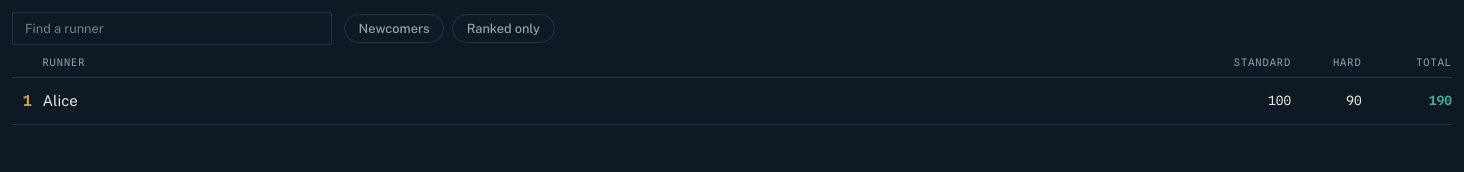
Test: EventLadder filters › shows the no-match message when filters exclude every entry
Type "nobody-matches" into the search field with placeholder "Find a runner".
click(172, 28); type("nobody-matches")  # box [12, 12, 332, 45]
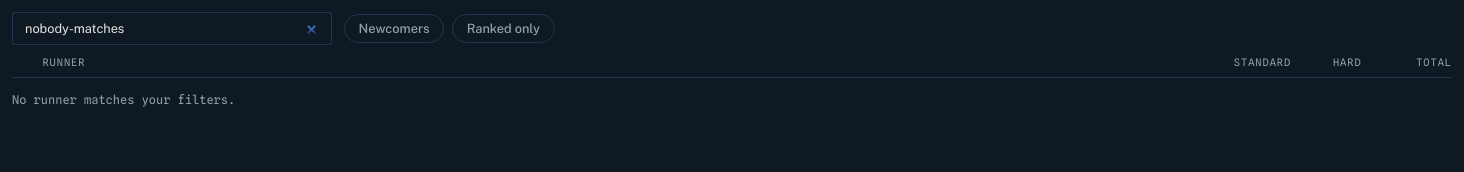
Check: the text "No runner matches your filters." is shown, box [12, 92, 235, 107]
